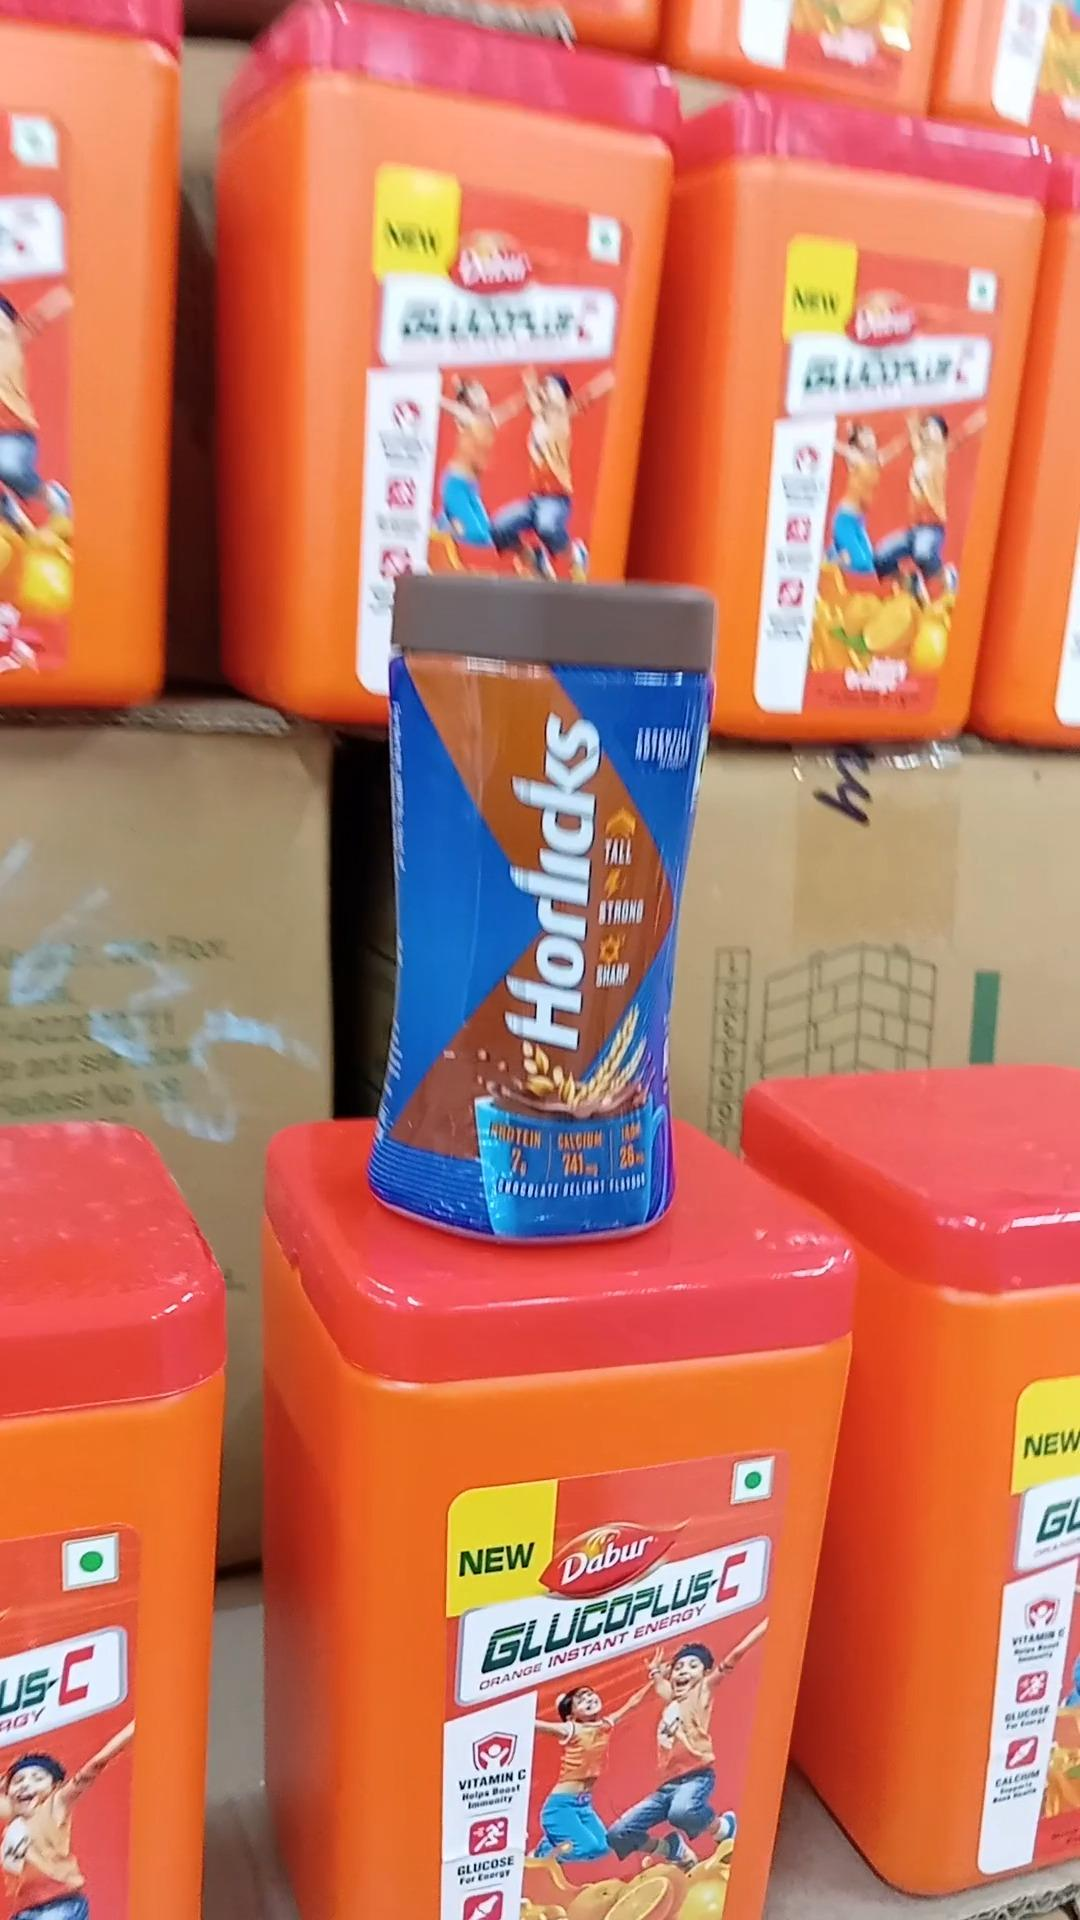HORLICK_CHOCOLATE_200_G_JAR: (376, 558, 688, 1255)
